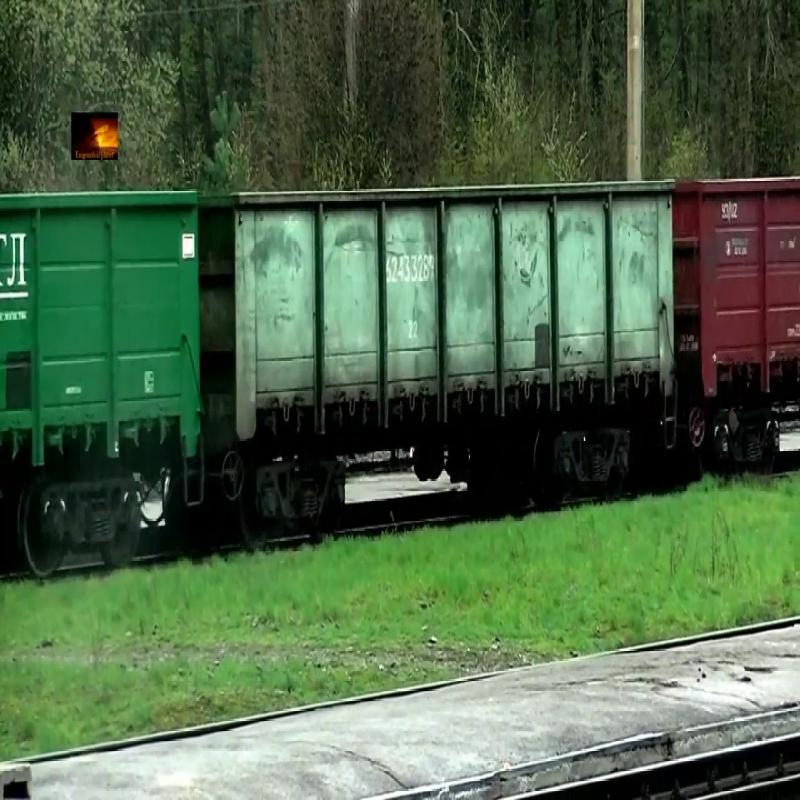train: (201, 179, 678, 456), (1, 187, 202, 489), (675, 175, 800, 406)
